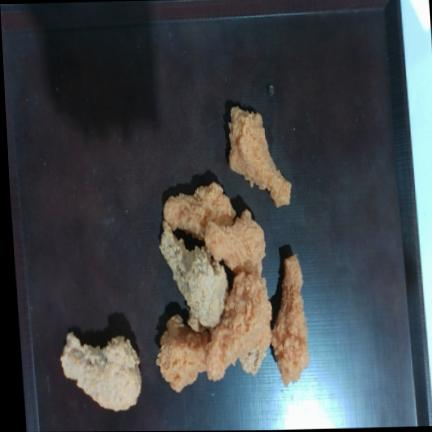chicken: (160, 220, 228, 331), (205, 272, 271, 379), (60, 332, 141, 411), (228, 106, 291, 207), (271, 254, 309, 384), (163, 182, 235, 240), (156, 315, 210, 392), (204, 209, 265, 276)
